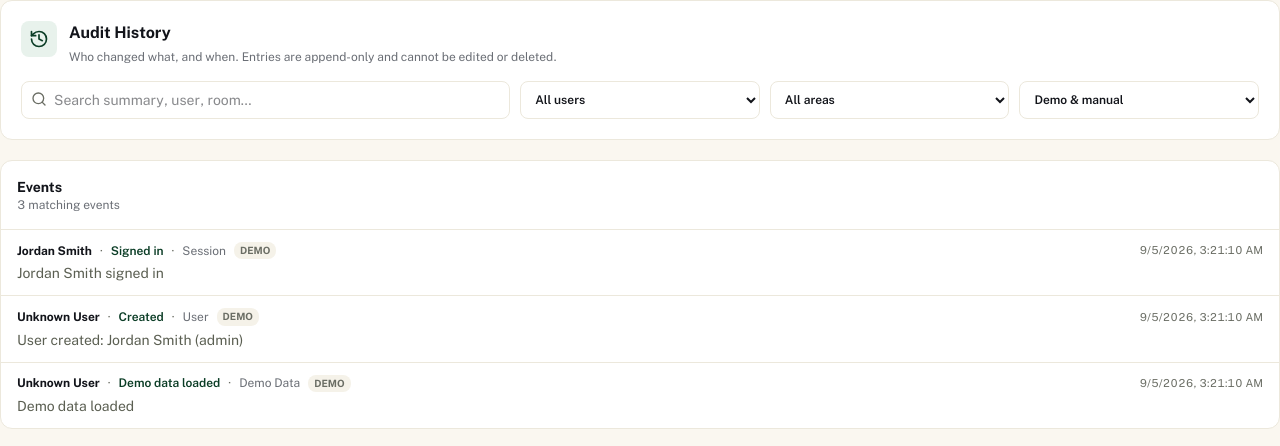
Test: AuditHistoryTab › shows the empty state when there are no matching events
In the field with placeholder "Search summary, user, room…": (266, 100) [21, 81, 510, 119], type "no-such-event-xyz"
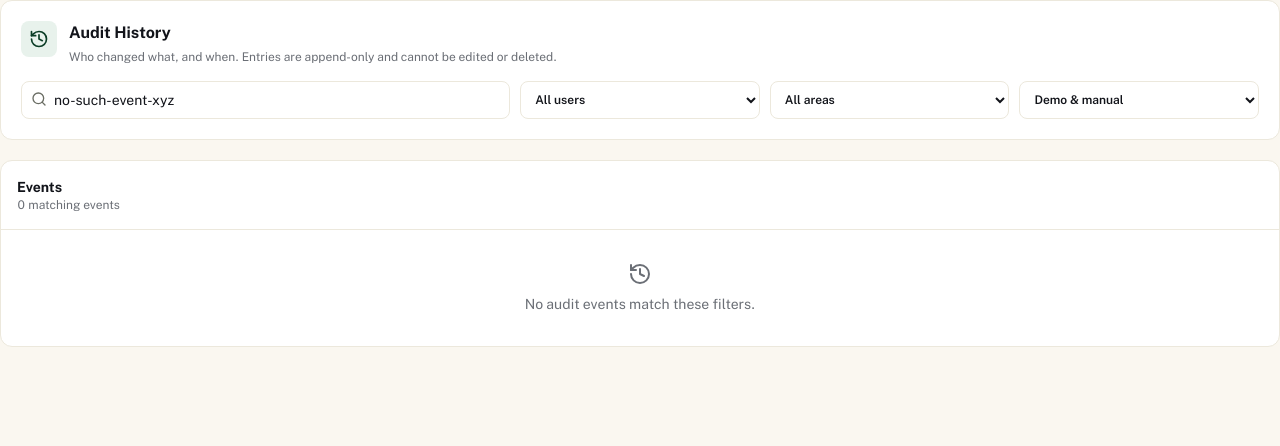
expect the text "No audit events match these filters." is shown: met, box [525, 262, 755, 312]
